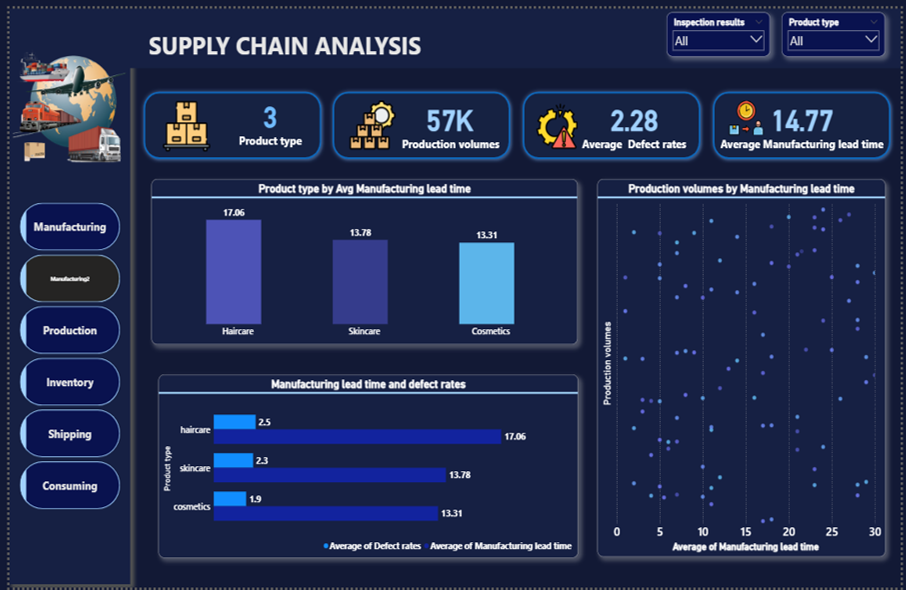

The page's visual inventory and layout, read from the dashboard file:
{"tool":"powerbi","page":{"name":" Manufacturing2","canvas":[2300,1400],"ordinal":1},"visuals":[{"type":"shape","box":[0,0,312,1392],"z":0},{"type":"shape","box":[308,0,1992,144],"z":1000},{"type":"textbox","box":[355.8,40.9,1945.8,132.2],"z":2000},{"type":"image","box":[3.1,40.9,311.7,384.1],"z":3000},{"type":"shape","box":[337.4,192.1,478.6,182.6],"z":4000},{"type":"card","title":"total shipping costs","fields":{"Values":["Count(supply_chain_data.Product type)"]},"box":[456.5,192.1,431.3,157.4],"z":5000},{"type":"textbox","box":[432,312,240,72],"z":6000},{"type":"slicer","fields":{"Values":["supply_chain_data.Inspection results"]},"box":[1696.7,10,266.7,106.7],"z":7000},{"type":"shape","box":[1804.6,192.1,478.6,182.6],"z":8000},{"type":"shape","box":[1316.6,192.1,478.6,182.6],"z":9000},{"type":"shape","box":[825.4,192.1,478.6,182.6],"z":10000},{"type":"card","fields":{"Values":["Avg(supply_chain_data.Manufacturing lead time)"]},"box":[1829.3,182.6,431.3,192.1],"z":11000},{"type":"card","fields":{"Values":["Avg(supply_chain_data.Defect rates)"]},"box":[1397.9,182.6,431.3,192.1],"z":12000},{"type":"card","fields":{"Values":["Sum(supply_chain_data.Production volumes)"]},"box":[966.6,182.6,336.9,192.1],"z":13000},{"type":"image","box":[384.1,217.2,144.8,132.2],"z":14000},{"type":"image","box":[862.7,214.1,148,132.2],"z":15000},{"type":"columnChart","title":"Product type by Avg Manufacturing lead time","fields":{"Y":["Avg(supply_chain_data.Manufacturing lead time)"],"Category":["supply_chain_data.product_type"]},"box":[366.7,413.3,1100,400],"z":16000},{"type":"scatterChart","title":"Production volumes by Manufacturing lead time","fields":{"X":["Avg(supply_chain_data.Manufacturing lead time)"],"Y":["supply_chain_data.Production volumes"]},"box":[1516.7,413.3,743.3,913.3],"z":17000},{"type":"image","box":[1333.3,223.3,160,120],"z":18000},{"type":"image","box":[1830,213.3,143.3,103.3],"z":19000},{"type":"slicer","fields":{"Values":["supply_chain_data.Product type"]},"box":[1993.3,10,266.7,106.7],"z":20000},{"type":"clusteredBarChart","title":"Manufacturing lead time and defect rates","fields":{"Category":["supply_chain_data.Product type"],"Y":["Avg(supply_chain_data.Defect rates)","Avg(supply_chain_data.Manufacturing lead time)"]},"box":[383.3,883.3,1083.3,443.3],"z":21000},{"type":"pageNavigator","box":[28.3,469.1,258.2,743],"z":22000}]}

Visuals, with their boxes on the page's 2300x1400 design canvas (x1, y1, x2, y2). These are canvas units, not pixel positions in the 906x590 screenshot, which may show the page scaled, cropped or inside an application window:
shape: [0, 0, 312, 1392]
shape: [308, 0, 2300, 144]
textbox: [356, 41, 2302, 173]
image: [3, 41, 315, 425]
shape: [337, 192, 816, 375]
"total shipping costs" card: [456, 192, 888, 350]
textbox: [432, 312, 672, 384]
slicer - supply_chain_data.Inspection results: [1697, 10, 1963, 117]
shape: [1805, 192, 2283, 375]
shape: [1317, 192, 1795, 375]
shape: [825, 192, 1304, 375]
card - Avg(supply_chain_data.Manufacturing lead time): [1829, 183, 2261, 375]
card - Avg(supply_chain_data.Defect rates): [1398, 183, 1829, 375]
card - Sum(supply_chain_data.Production volumes): [967, 183, 1304, 375]
image: [384, 217, 529, 349]
image: [863, 214, 1011, 346]
"Product type by Avg Manufacturing lead time" columnChart: [367, 413, 1467, 813]
"Production volumes by Manufacturing lead time" scatterChart: [1517, 413, 2260, 1327]
image: [1333, 223, 1493, 343]
image: [1830, 213, 1973, 317]
slicer - supply_chain_data.Product type: [1993, 10, 2260, 117]
"Manufacturing lead time and defect rates" clusteredBarChart: [383, 883, 1467, 1327]
pageNavigator: [28, 469, 286, 1212]
